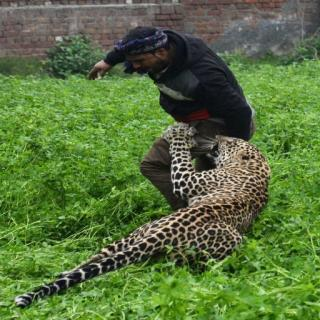Leopard: (49, 120, 298, 318)
